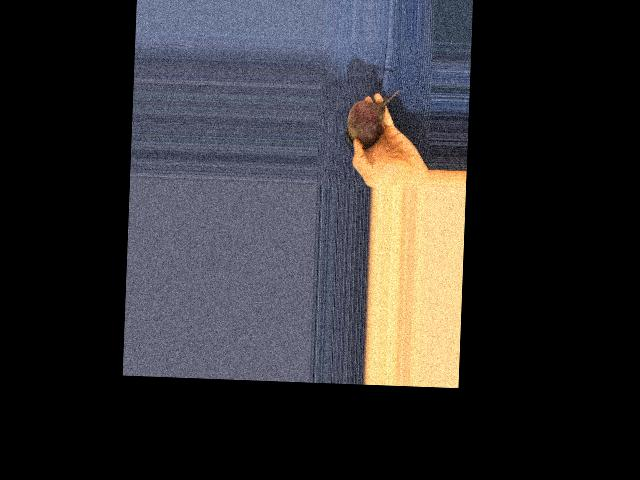beet: (344, 87, 401, 149)
